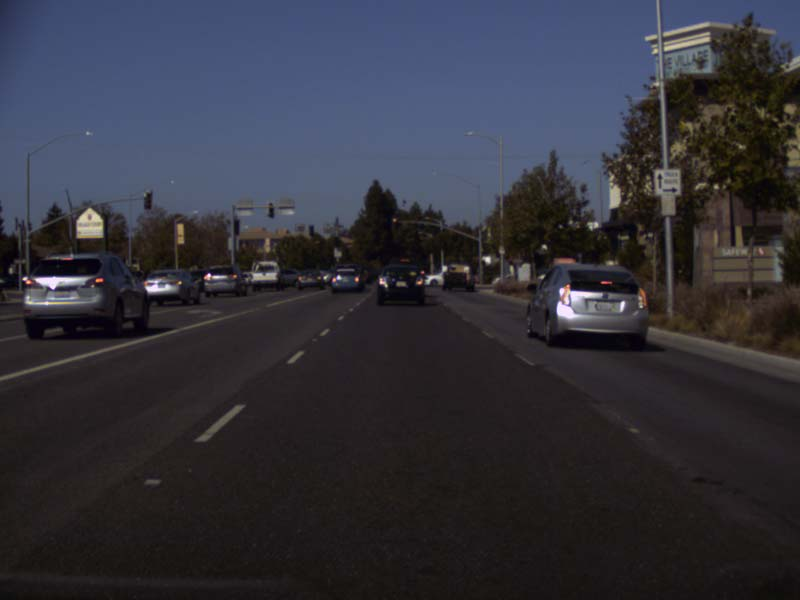Red: (480, 247, 485, 255)
Yellow: (391, 216, 397, 223)
